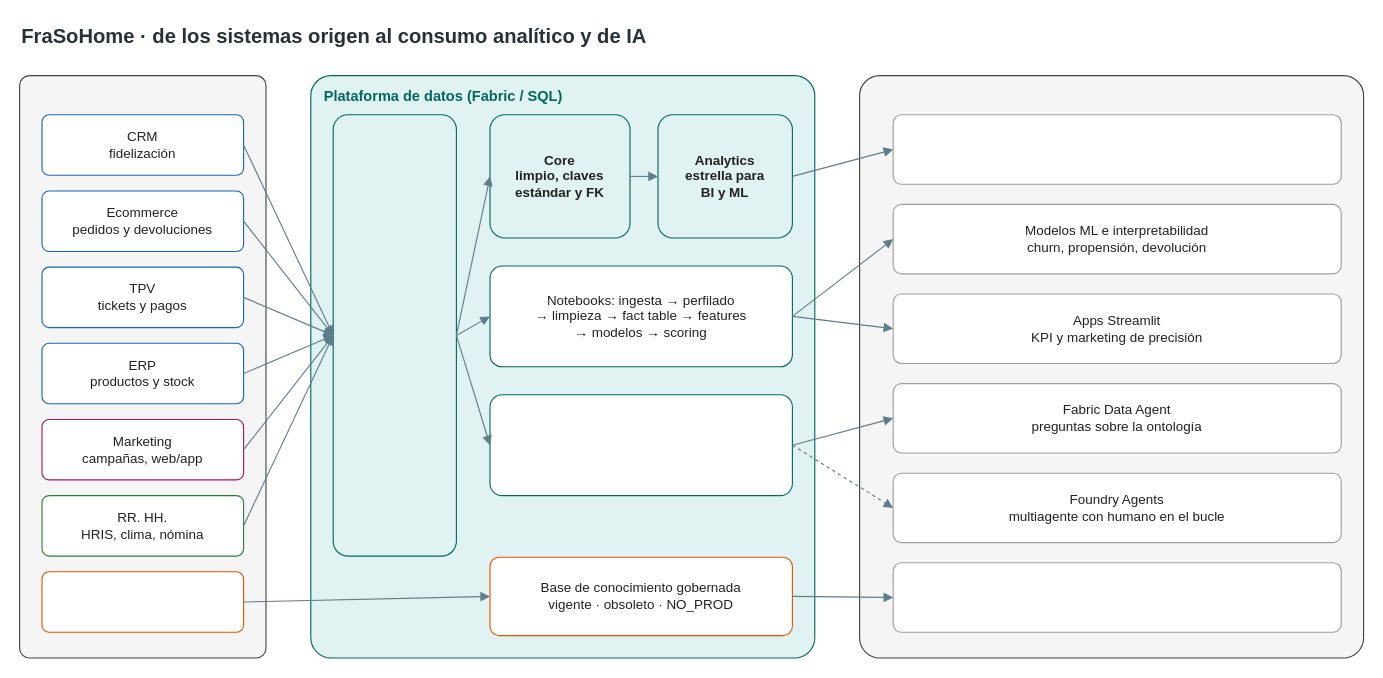
The diagram is 1383 pixels wide and 678 high, and some of its shapes have lost their labels. The shapes that lost their labels are listed below. From the top down, each one's box as (x1, y1, x2, y2) in pixels, then its label:
(892, 114, 1341, 184): Power BI ventas, personas, calidad
(332, 114, 456, 556): Raw aterrizaje fiel (todo texto) raw_retail raw_marketing raw_people raw_rag
(18, 74, 266, 658): Sistemas origen
(858, 74, 1364, 658): Consumo
(489, 394, 792, 496): Ontología FraSoHome_Context 15 entidades · 25 relaciones GraphModel
(41, 571, 244, 632): Documentos políticas y KPI
(892, 562, 1341, 632): Copilot Studio asistente RAG + Dataverse
